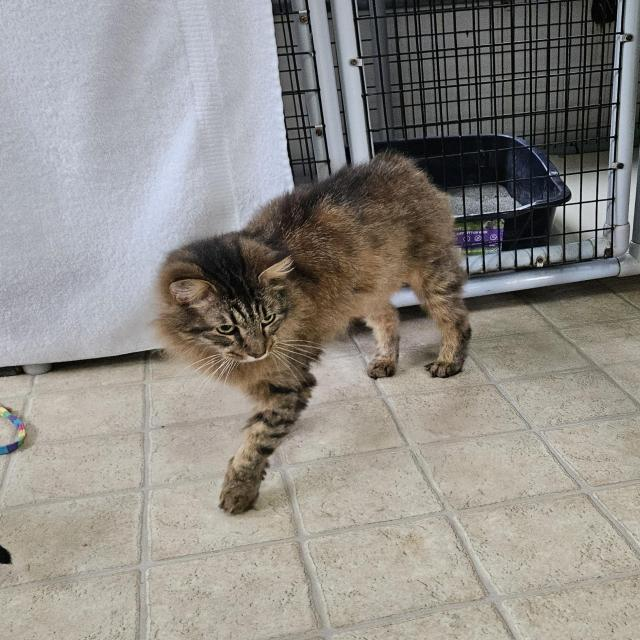manx_cat: (150, 224, 324, 381)
